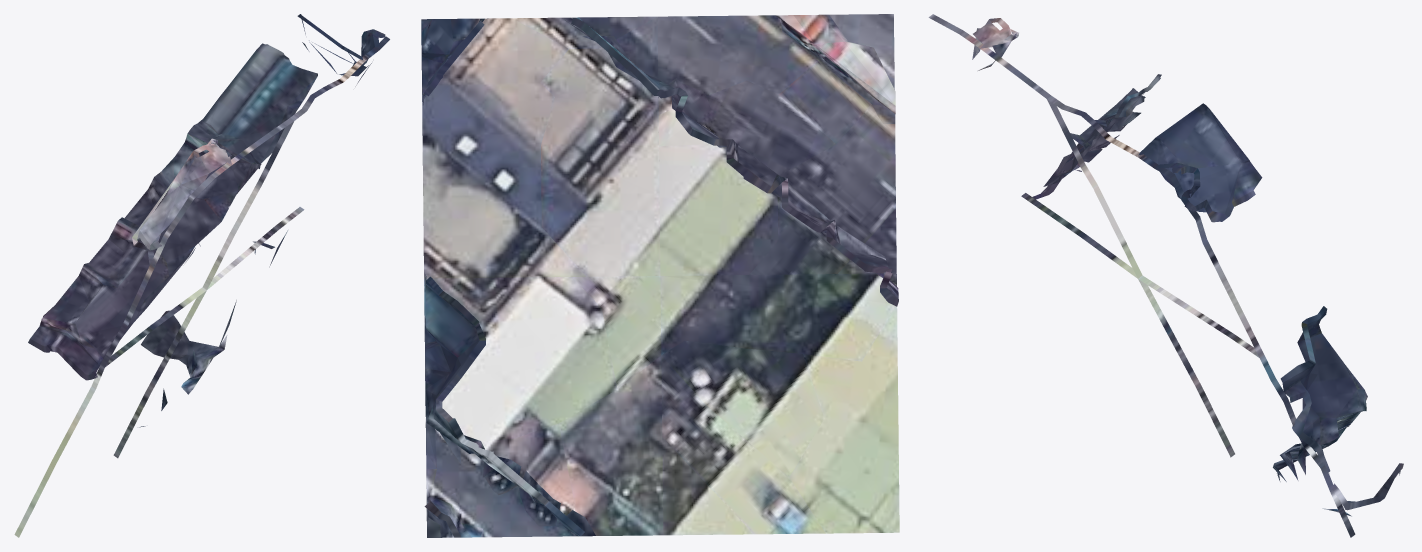
3 views of the same model, side by side, from view 1: azimuth 30°, elevation 25°; view 2: azimuth 150°, elevation 25°; view 3: azimuth 270°, elevation 25° (orthographic). The views are drawn at different scales.
Size of the model in its own units: 38.11 by 37.36 by 36.67.
Materials: 1 (1 with a texture image).
